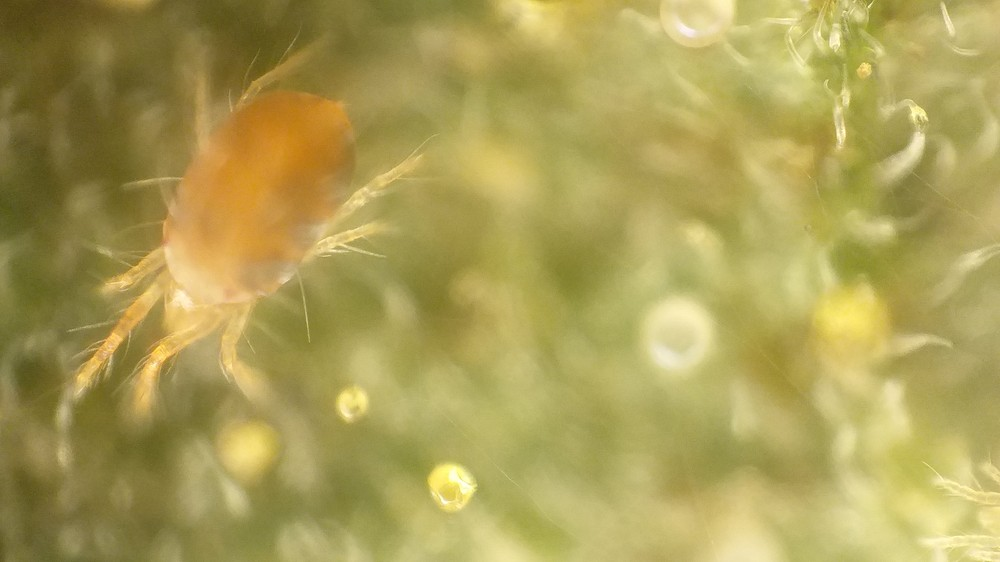Aracnido Rojo: (61, 34, 441, 415)
